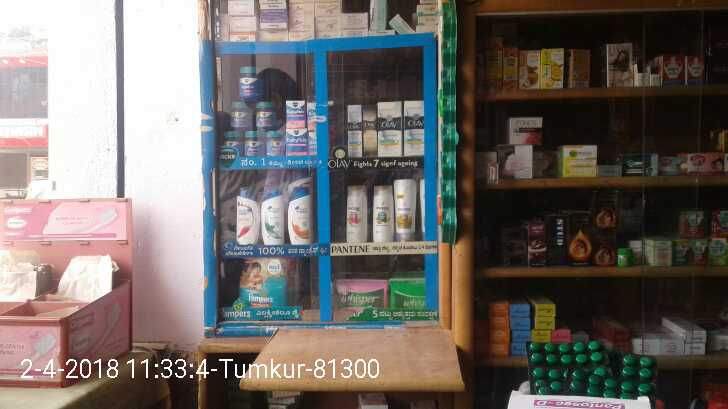vicks: (222, 54, 283, 153), (287, 95, 309, 155)
